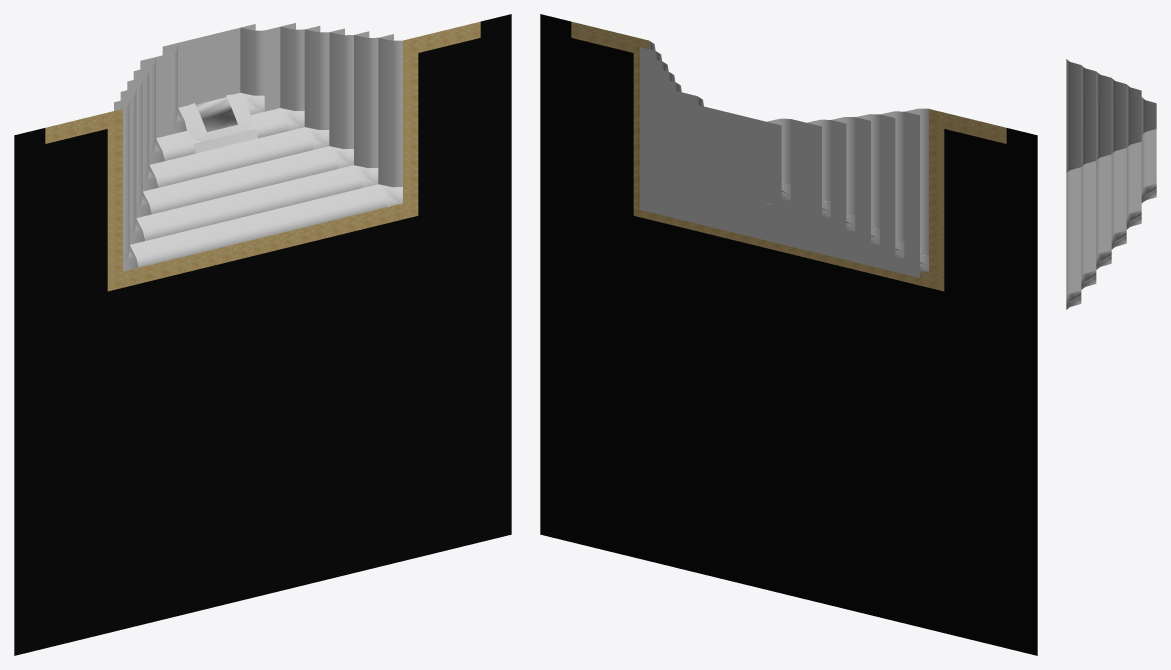
File: Subterranean-Cave-2_02_04.obj
3 renders of one model, left to right at view 1: azimuth 30°, elevation 25°; view 2: azimuth 150°, elevation 25°; view 3: azimuth 270°, elevation 25°, orthographic. The views are drawn at different scales.
Visible parts, largest first — view 1: map; view 2: map; view 3: map.
Part boxes in pixels (box(x1,y1,x2,y2)): map: box(14, 14, 511, 655); map: box(540, 14, 1037, 655); map: box(1066, 59, 1156, 309).
Bounding box in the file's own units: 32 × 32 × 6.
